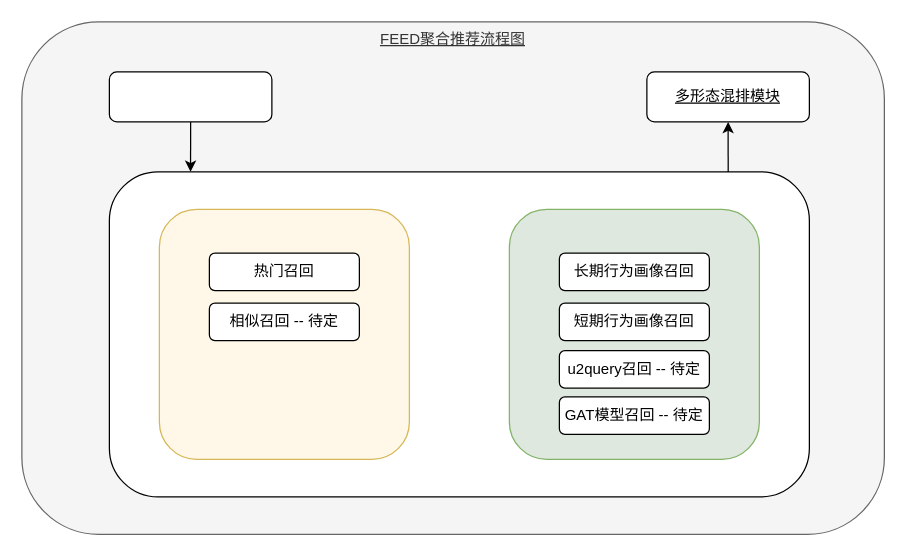
This 906x556 diagram has some shape labels left out. Here are the shapes that lost their labels. From the top down, the box of each, then its label:
(108, 71, 272, 122): 聚合单位产出模块
(158, 208, 409, 459): 离线召回
(108, 171, 809, 497): 召回模块
(508, 208, 759, 459): 在线召回
